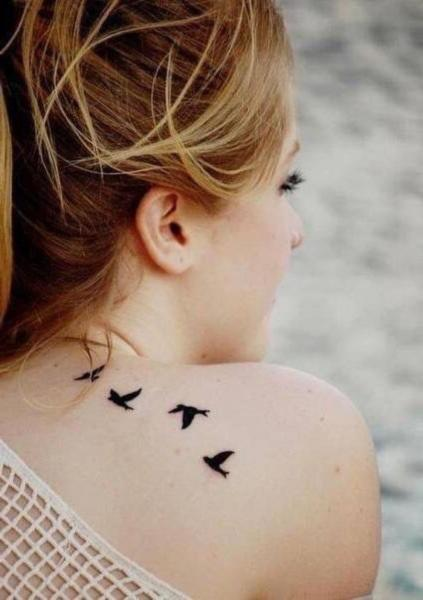Table: (214, 227, 272, 354)
